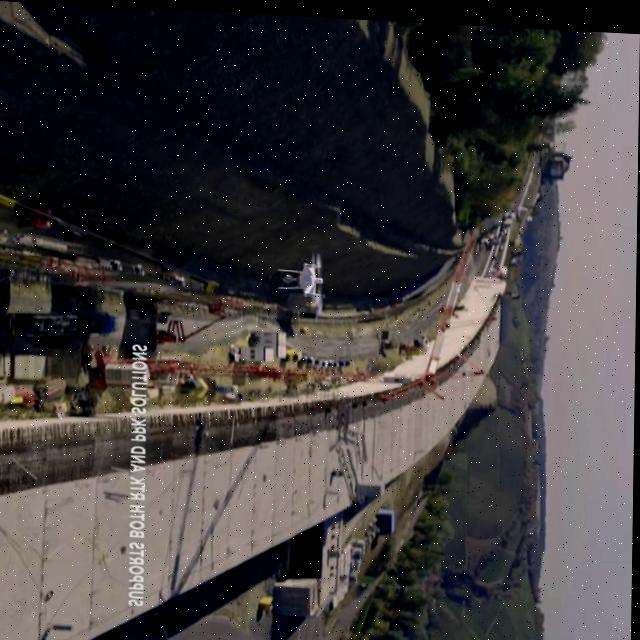drone: (276, 245, 330, 308)
